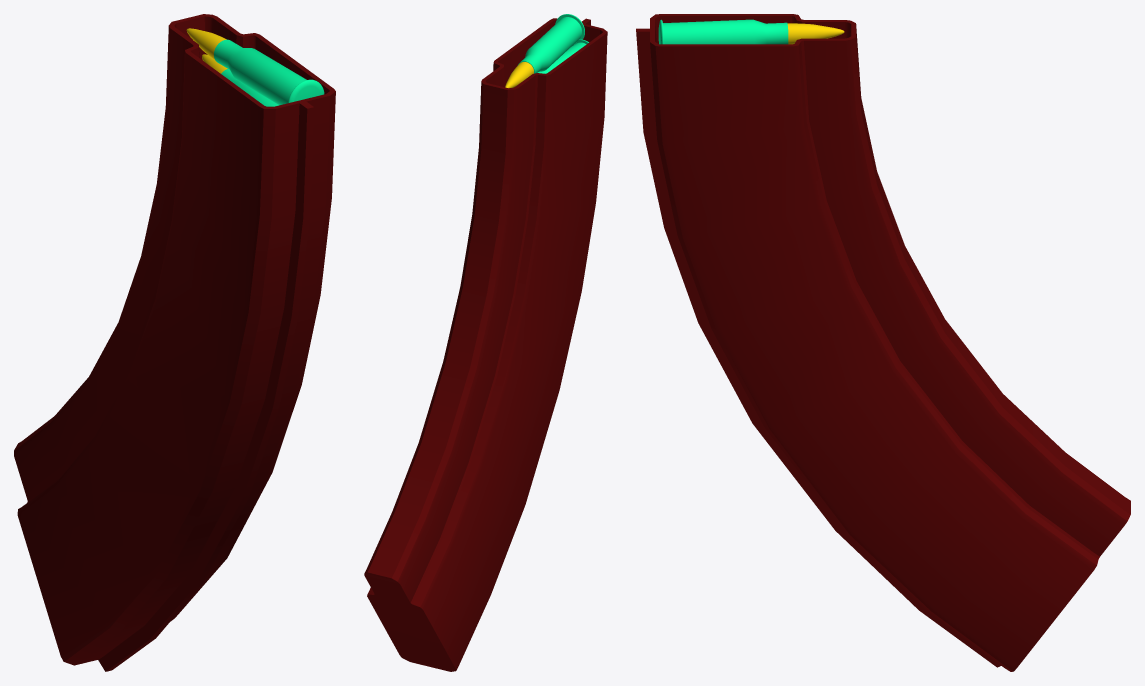
File: Ak47M1_Magazine.FBX
3 renders of one model, left to right at view 1: azimuth 30°, elevation 25°; view 2: azimuth 150°, elevation 25°; view 3: azimuth 270°, elevation 25°, orthographic. The views are drawn at different scales.
Parts seen in each view (by area): view 1: Ak47_Magazine, Shell, Bullet; view 2: Ak47_Magazine, Shell, Bullet; view 3: Ak47_Magazine, Shell, Bullet.
Boxes of the visible parts, x1,y1,x2,y2 form: Ak47_Magazine: (14, 14, 335, 671); Shell: (213, 39, 324, 106); Bullet: (186, 28, 227, 73); Ak47_Magazine: (364, 18, 607, 671); Shell: (517, 14, 588, 73); Bullet: (505, 62, 533, 88); Ak47_Magazine: (636, 14, 1130, 671); Shell: (658, 19, 788, 44); Bullet: (787, 23, 844, 44).
Size of the model in its own units: 2.2 by 20.51 by 14.17.
